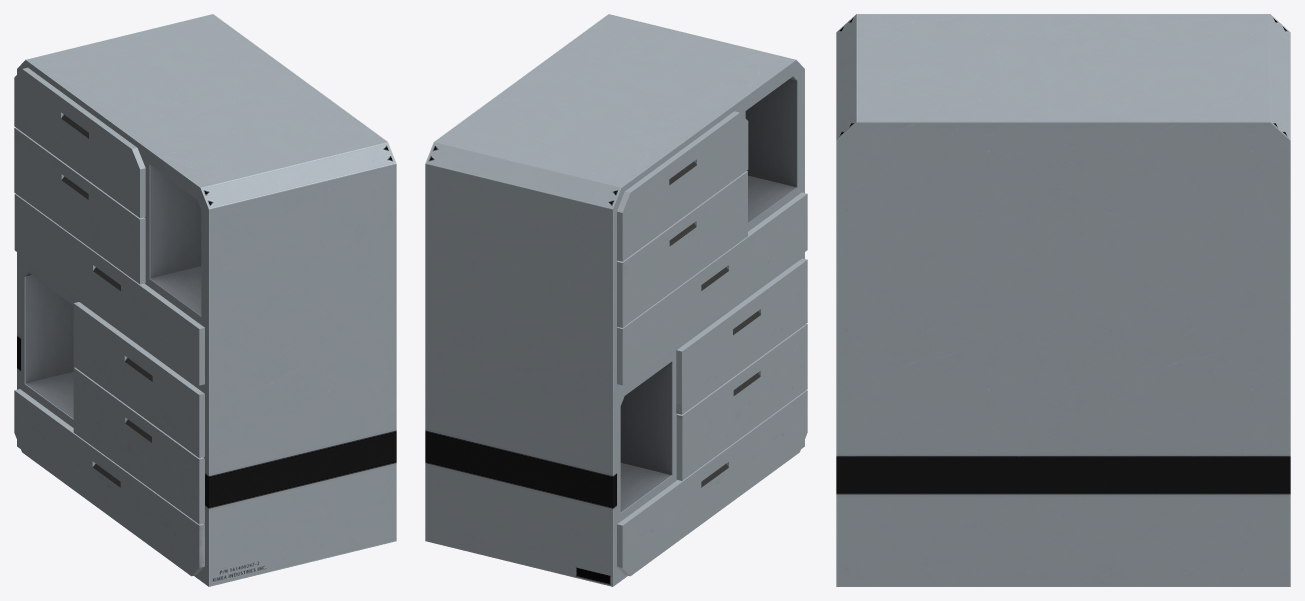
The model's file is sci-fi_furniture_pack_aaa_shelving_unit_c.glb.
3 views of the same model, side by side, from view 1: azimuth 30°, elevation 25°; view 2: azimuth 150°, elevation 25°; view 3: azimuth 270°, elevation 25° (orthographic). The views are drawn at different scales.
Visible parts, largest first — view 1: ChestSwap, Drawer3_3, Drawer6_6, Drawer4_4, Drawer1_1, Drawer5_5, Drawer2_2; view 2: ChestSwap, Drawer3_3, Drawer6_6, Drawer4_4, Drawer1_1, Drawer5_5, Drawer2_2; view 3: ChestSwap.
Boxes of the visible parts, x1,y1,x2,y2 form: ChestSwap: [17, 14, 396, 586]; Drawer3_3: [14, 193, 204, 385]; Drawer6_6: [14, 389, 204, 576]; Drawer4_4: [73, 302, 204, 457]; Drawer1_1: [14, 67, 145, 218]; Drawer5_5: [73, 367, 204, 524]; Drawer2_2: [14, 127, 145, 284]; ChestSwap: [425, 14, 804, 586]; Drawer3_3: [617, 192, 807, 385]; Drawer6_6: [617, 390, 807, 576]; Drawer4_4: [676, 258, 807, 414]; Drawer1_1: [617, 111, 748, 261]; Drawer5_5: [676, 324, 807, 480]; Drawer2_2: [617, 171, 747, 327]; ChestSwap: [836, 14, 1290, 586].
Size of the model in its own units: 0.8627 by 1.67 by 1.48.
7 materials, 7 textured.
